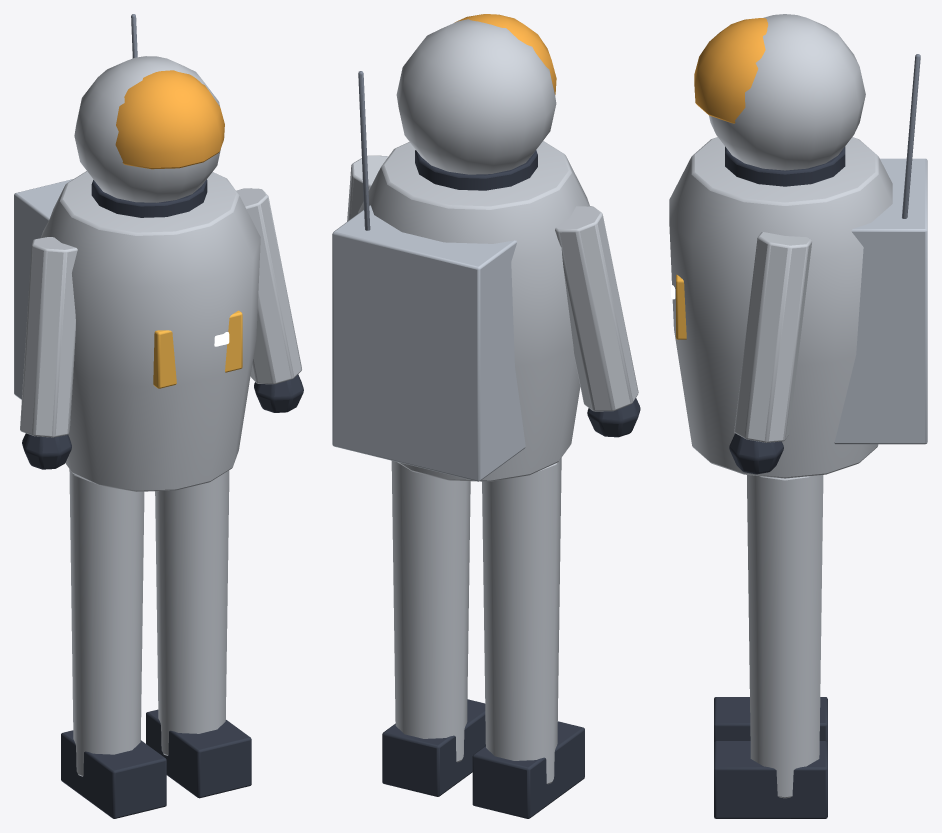
The model's file is astronaut.fbx.
3 renders of one model, left to right at view 1: azimuth 30°, elevation 25°; view 2: azimuth 150°, elevation 25°; view 3: azimuth 270°, elevation 25°, orthographic. The views are drawn at different scales.
Parts seen in each view (by area): view 1: astronaut_Koerper; view 2: astronaut_Koerper; view 3: astronaut_Koerper.
Boxes of the visible parts, x1,y1,x2,y2 form: astronaut_Koerper: [14, 14, 303, 818]; astronaut_Koerper: [332, 14, 640, 818]; astronaut_Koerper: [669, 14, 927, 818].
Size of the model in its own units: 0.7154 by 1.77 by 0.5437.
